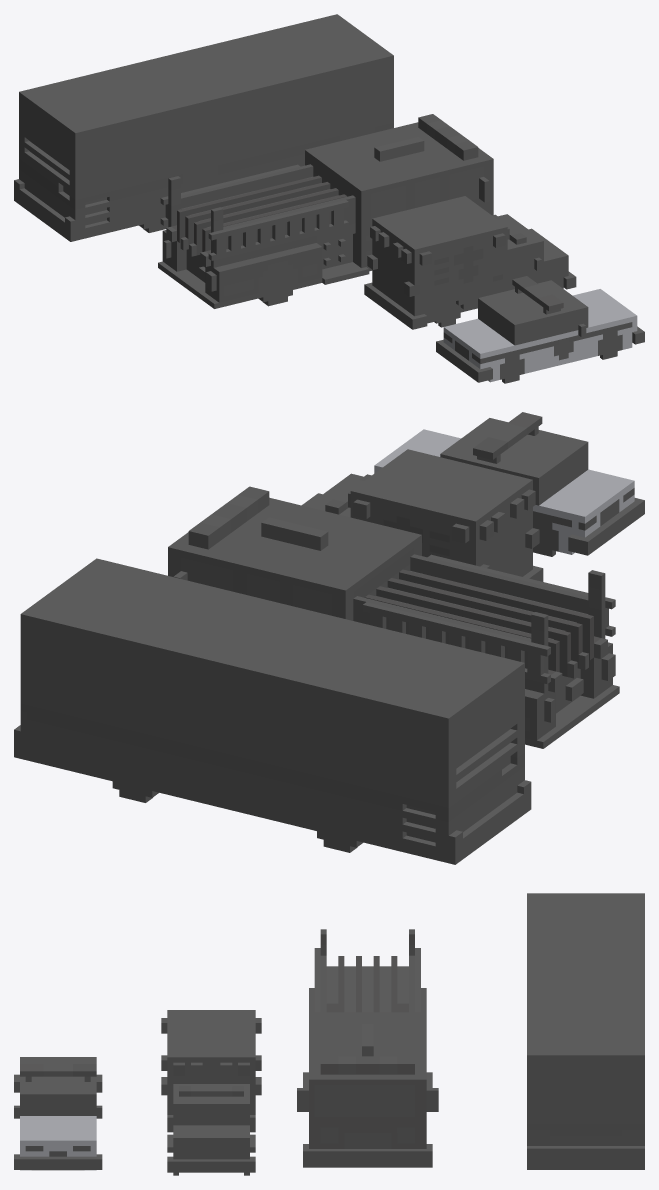
The model's file is scene_vehicles1.obj.
3 views of the same model, one above another, from view 1: azimuth 30°, elevation 25°; view 2: azimuth 150°, elevation 25°; view 3: azimuth 270°, elevation 25° (orthographic). The views are drawn at different scales.
Size of the model in its own units: 68 by 23 by 107.
